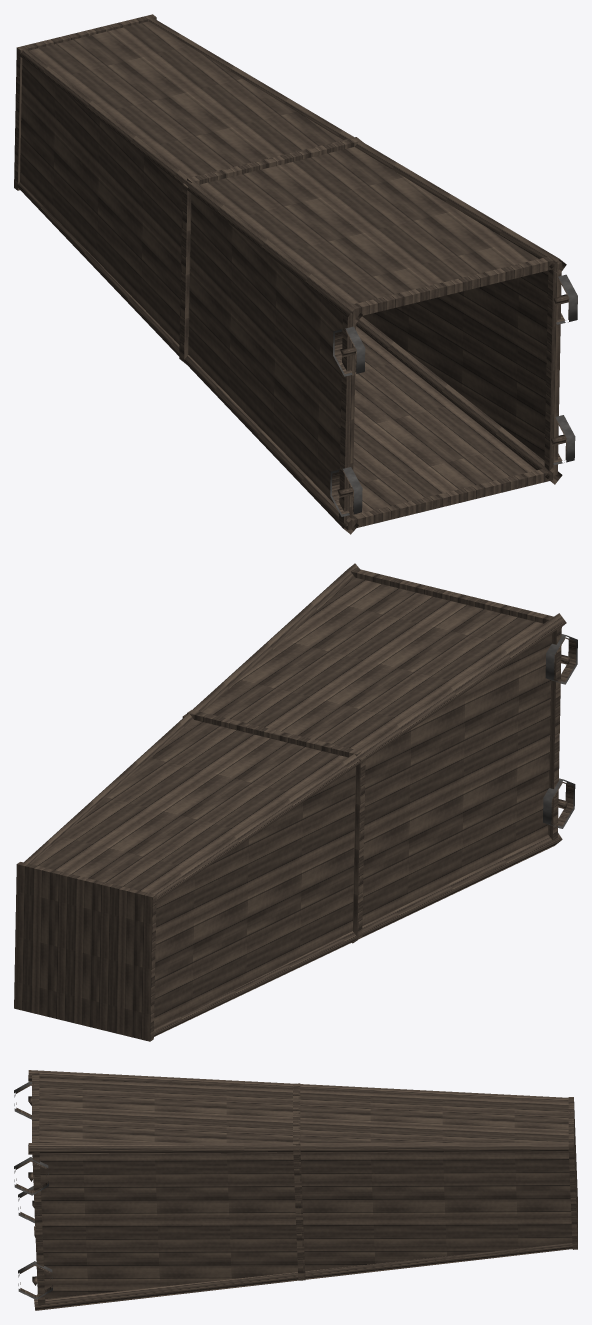
The model's file is SiegeTower_Wreck_1_LOD2.gltf.
The picture shows the model from 3 angles, top to bottom: view 1: azimuth 30°, elevation 25°; view 2: azimuth 150°, elevation 25°; view 3: azimuth 270°, elevation 25°; orthographic projection. The views are drawn at different scales.
Visible parts, largest first — view 1: SiegeTower_Wreck_1_LOD2; view 2: SiegeTower_Wreck_1_LOD2; view 3: SiegeTower_Wreck_1_LOD2.
Part boxes in pixels (<box>): SiegeTower_Wreck_1_LOD2: <box>14,14,577,534</box>; SiegeTower_Wreck_1_LOD2: <box>14,563,577,1041</box>; SiegeTower_Wreck_1_LOD2: <box>14,1070,577,1310</box>.
Bounding box in the file's own units: 5.32 × 5.16 × 15.69.
2 materials, 2 textured.
